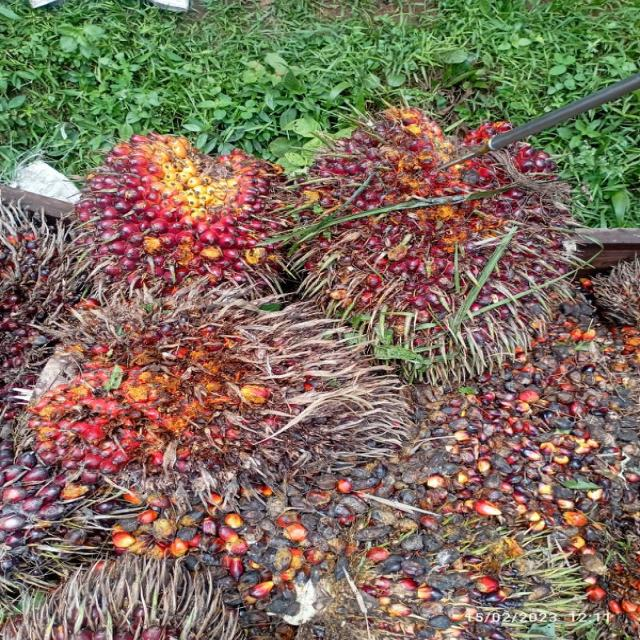fraksi 1: (278, 40, 600, 339)
fraksi 3: (8, 269, 390, 500), (62, 84, 328, 324)
